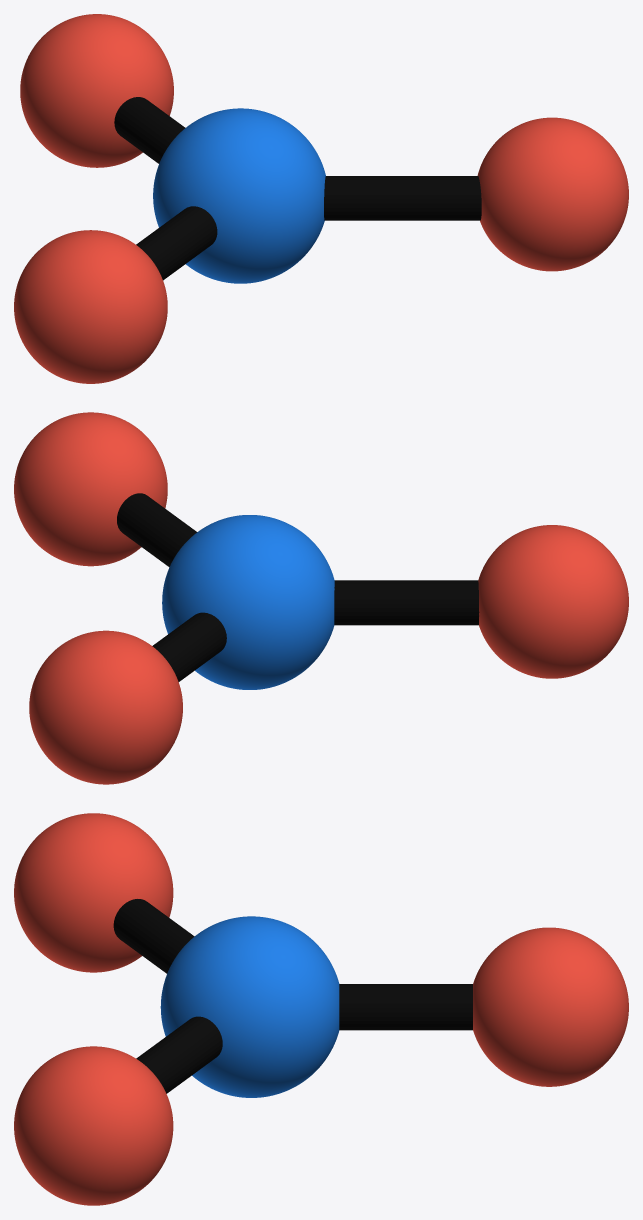
Rendered from trigonal planar.glb.
3 views of the same model, one above another, from view 1: azimuth 30°, elevation 25°; view 2: azimuth 150°, elevation 25°; view 3: azimuth 270°, elevation 25° (orthographic). The views are drawn at different scales.
Parts seen in each view (by area): view 1: Sphere, Sphere.002, Sphere.003, Sphere.001, Cylinder.001, Cylinder.002, Cylinder; view 2: Sphere, Sphere.001, Sphere.002, Sphere.003, Cylinder.002, Cylinder.001, Cylinder; view 3: Sphere, Sphere.003, Sphere.001, Sphere.002, Cylinder, Cylinder.001, Cylinder.002.
Part boxes in pixels (box(x1,y1,x2,y2)): Sphere: box(153, 108, 325, 283); Sphere.002: box(14, 230, 167, 383); Sphere.003: box(477, 117, 628, 271); Sphere.001: box(20, 14, 173, 167); Cylinder.001: box(324, 176, 481, 220); Cylinder.002: box(136, 206, 217, 280); Cylinder: box(114, 97, 185, 163); Sphere: box(162, 515, 334, 689); Sphere.001: box(29, 630, 182, 784); Sphere.002: box(478, 525, 628, 678); Sphere.003: box(14, 412, 167, 566); Cylinder.002: box(334, 580, 479, 625); Cylinder.001: box(117, 493, 196, 567); Cylinder: box(152, 612, 226, 681); Sphere: box(160, 916, 339, 1097); Sphere.003: box(14, 1046, 173, 1205); Sphere.001: box(473, 927, 628, 1086); Sphere.002: box(14, 813, 173, 972); Cylinder: box(339, 984, 472, 1030); Cylinder.001: box(136, 1016, 222, 1093); Cylinder.002: box(113, 899, 194, 973).
Size of the model in its own units: 7.83 by 2 by 6.77.
